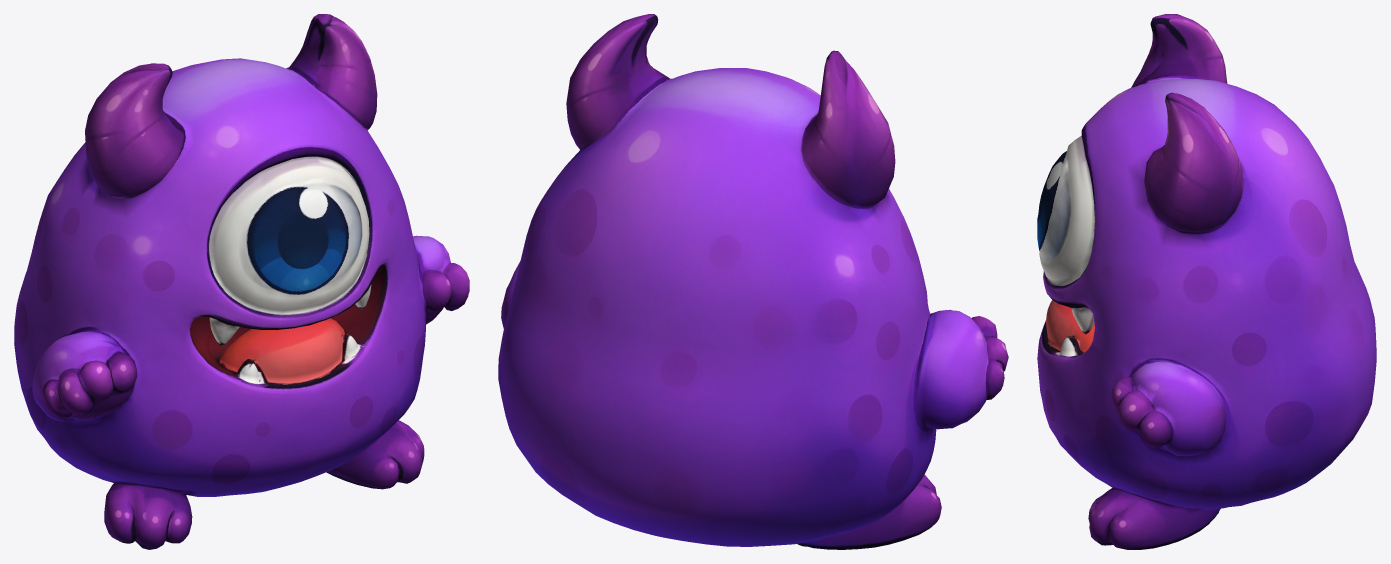
Rendered from avatar7.glb.
3 renders of one model, left to right at view 1: azimuth 30°, elevation 25°; view 2: azimuth 150°, elevation 25°; view 3: azimuth 270°, elevation 25°, orthographic. The views are drawn at different scales.
Visible parts, largest first — view 1: tripo_node_346ff791-2776-424c-b2a8-66ab13a18f8d; view 2: tripo_node_346ff791-2776-424c-b2a8-66ab13a18f8d; view 3: tripo_node_346ff791-2776-424c-b2a8-66ab13a18f8d.
Boxes of the visible parts, bbox=[...] form: tripo_node_346ff791-2776-424c-b2a8-66ab13a18f8d: bbox=[14, 14, 469, 549]; tripo_node_346ff791-2776-424c-b2a8-66ab13a18f8d: bbox=[498, 14, 1008, 549]; tripo_node_346ff791-2776-424c-b2a8-66ab13a18f8d: bbox=[1037, 14, 1376, 549].
Size of the model in its own units: 0.9779 by 0.9587 by 0.687.
1 material, 1 textured.
